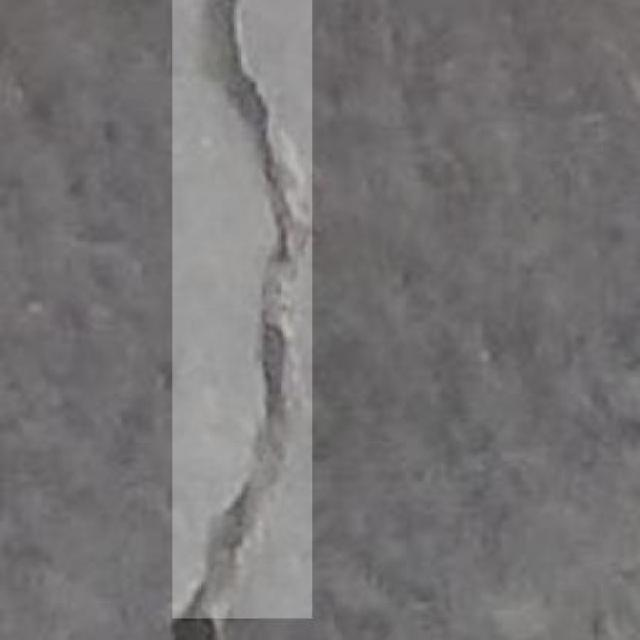Crack: (164, 0, 314, 640)
